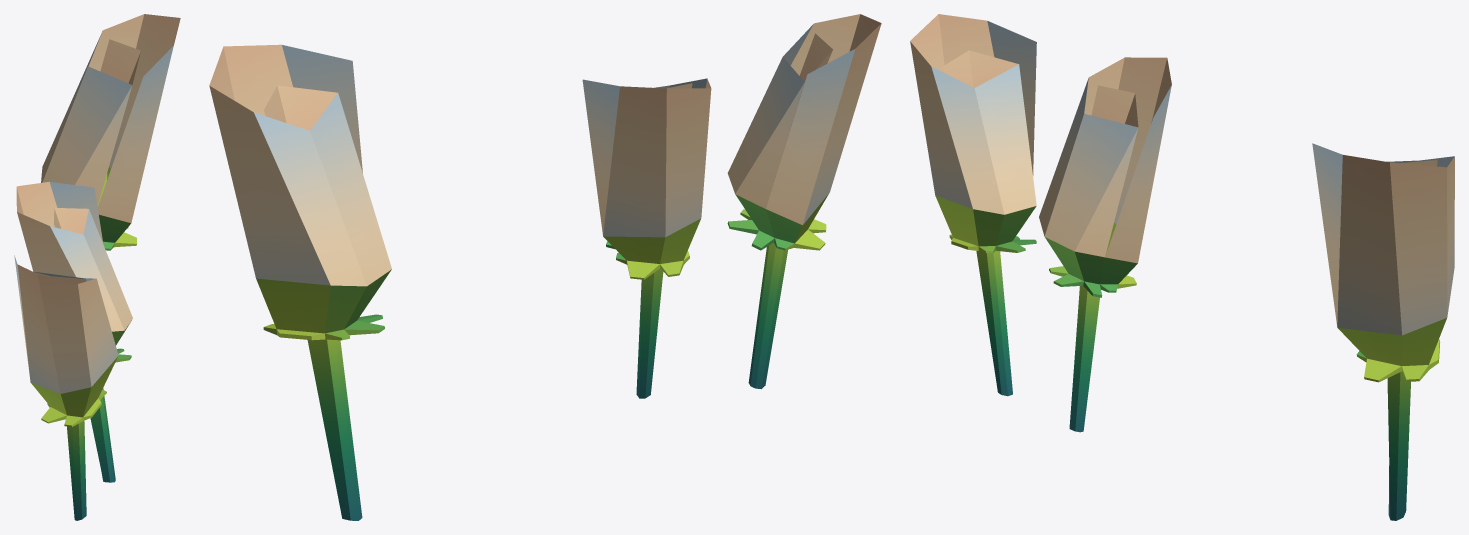
Rendered from Grass_Lilies 1.fbx.
The picture shows the model from 3 angles, left to right: view 1: azimuth 30°, elevation 25°; view 2: azimuth 150°, elevation 25°; view 3: azimuth 270°, elevation 25°; orthographic projection. The views are drawn at different scales.
Parts seen in each view (by area): view 1: Lily; view 2: Lily; view 3: Lily.
Part boxes in pixels (x1,y1,x2,y2): Lily: (14, 14, 180, 520); Lily: (209, 14, 881, 520); Lily: (910, 14, 1454, 520).
Size of the model in its own units: 18.31 by 18.34 by 21.7.
